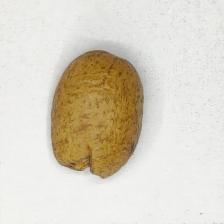NG: (66, 142, 107, 181)
